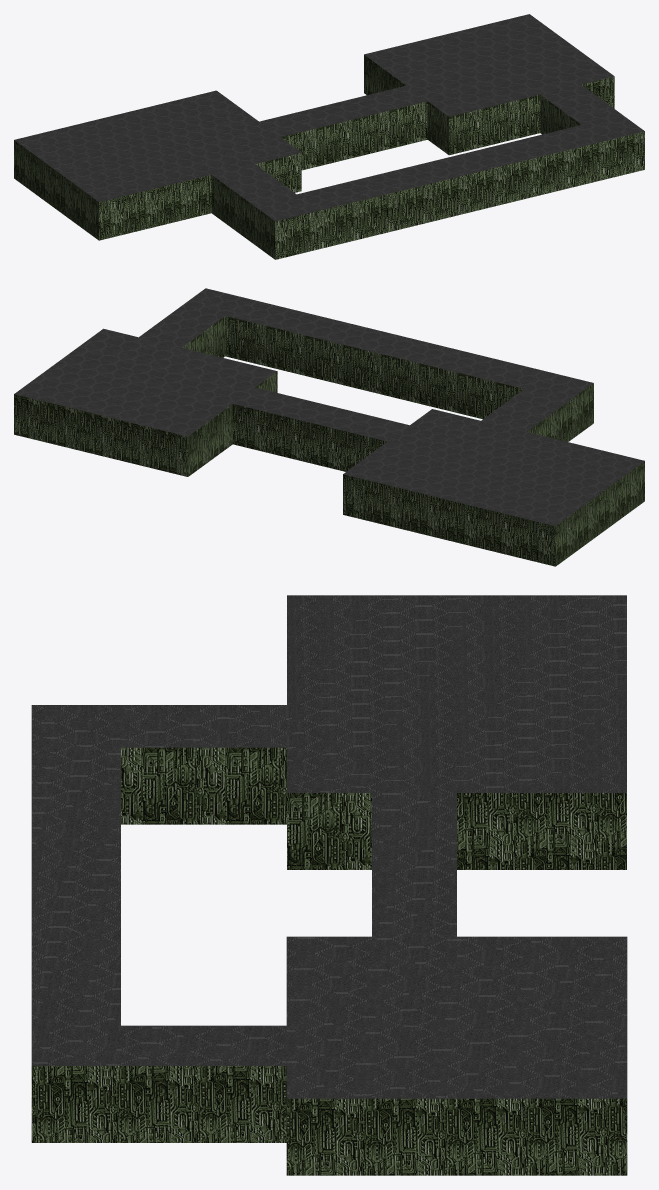
Rendered from TestLevel.glb.
3 views of the same model, one above another, from view 1: azimuth 30°, elevation 25°; view 2: azimuth 150°, elevation 25°; view 3: azimuth 270°, elevation 25° (orthographic). The views are drawn at different scales.
Parts seen in each view (by area): view 1: Plane; view 2: Plane; view 3: Plane.
Part boxes in pixels (<box>): Plane: <box>14,14,644,259</box>; Plane: <box>14,288,644,566</box>; Plane: <box>31,595,627,1175</box>.
Size of the model in its own units: 28 by 2 by 14.01.
Materials: 2 (2 with a texture image).
